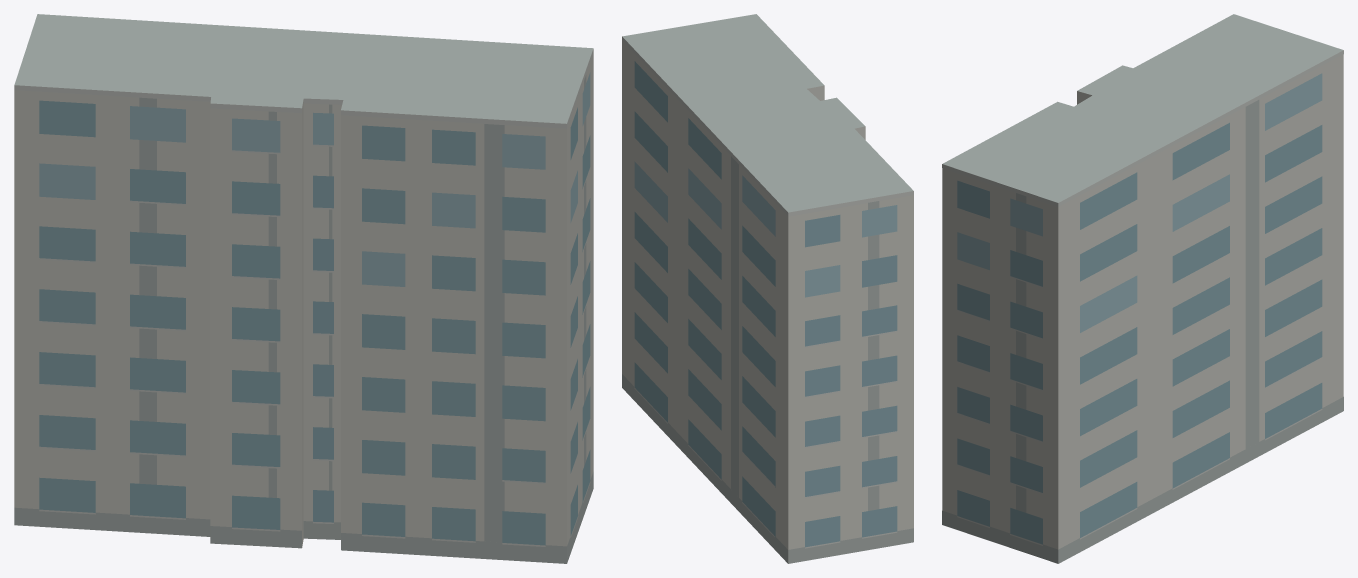
Rendered from survey-upis-32819187.glb.
The picture shows the model from 3 angles, left to right: view 1: azimuth 30°, elevation 25°; view 2: azimuth 150°, elevation 25°; view 3: azimuth 270°, elevation 25°; orthographic projection. The views are drawn at different scales.
Parts seen in each view (by area): view 1: survey-upis-32819187.tmp; view 2: survey-upis-32819187.tmp; view 3: survey-upis-32819187.tmp.
Part boxes in pixels (x1,y1,x2,y2): survey-upis-32819187.tmp: (14,14,593,563); survey-upis-32819187.tmp: (622,14,913,563); survey-upis-32819187.tmp: (942,14,1343,563).
Size of the model in its own units: 23.99 by 21.35 by 21.54.
